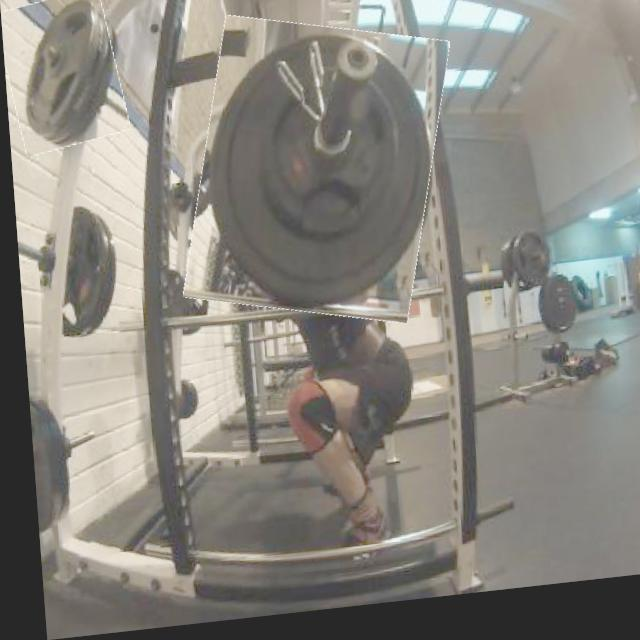barbell: (178, 14, 450, 341), (1, 1, 125, 155)
